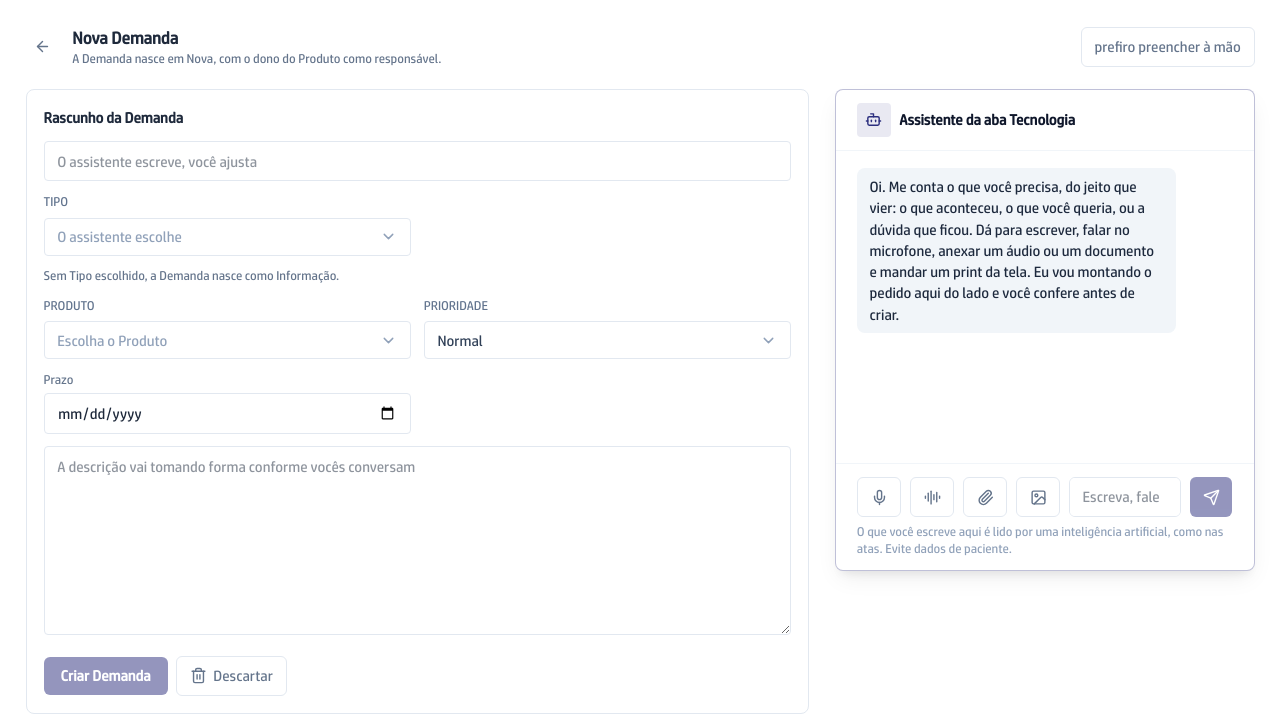
Test: Depois que a Demanda nasce › com aviso de e-mail, a tela NÃO navega sozinha: a frase se perderia
Click the button "prefiro preencher à mão".
click(1168, 47)  # box [1081,27,1254,67]
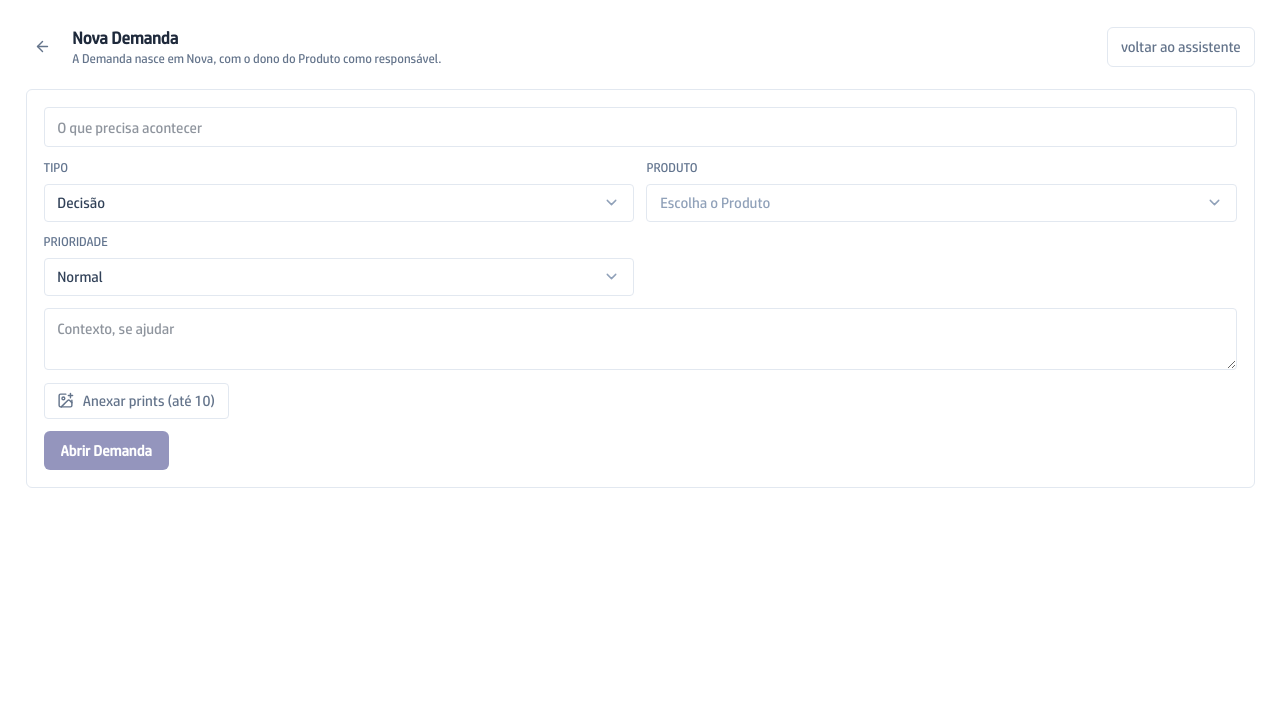
Now the button "Abrir Demanda" is shown, box [44,432,169,470]
Type "Encerrar conversas" into the field named "Título".
click(640, 127); type("Encerrar conversas")  # box [44,107,1236,148]
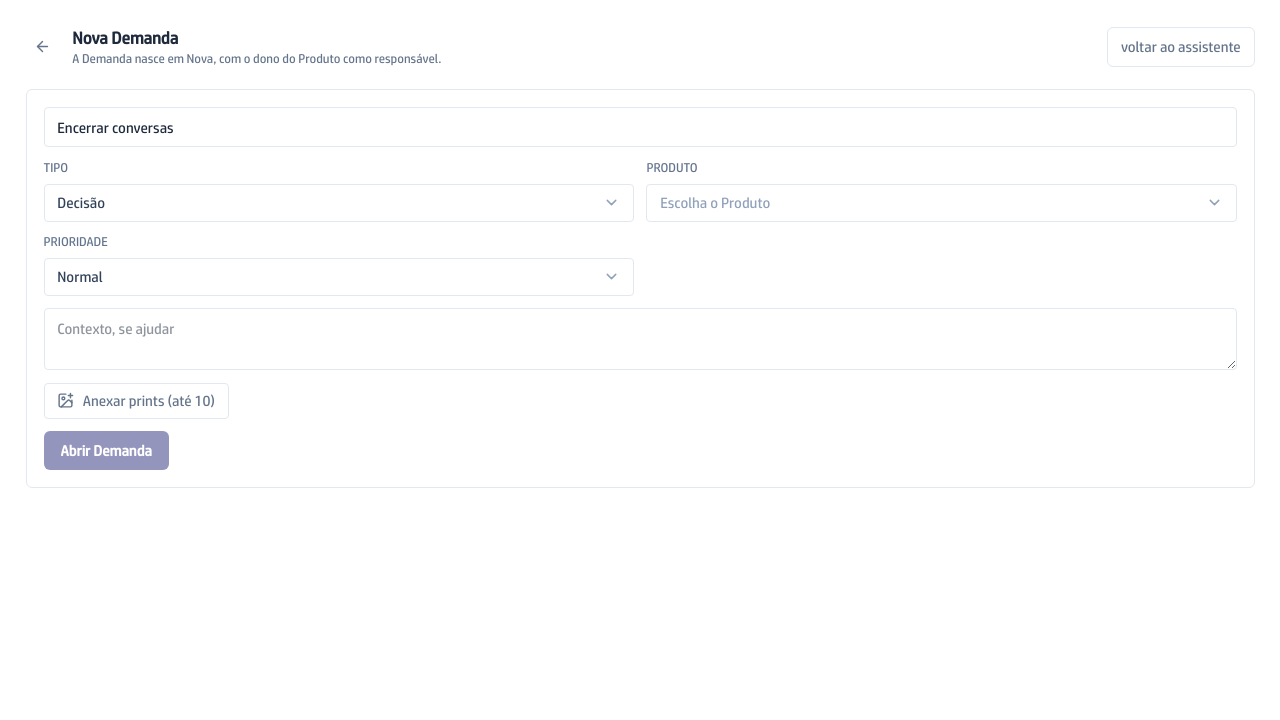
Click the dropdown labelled "Produto".
click(715, 202)  # box [646,184,1236,222]
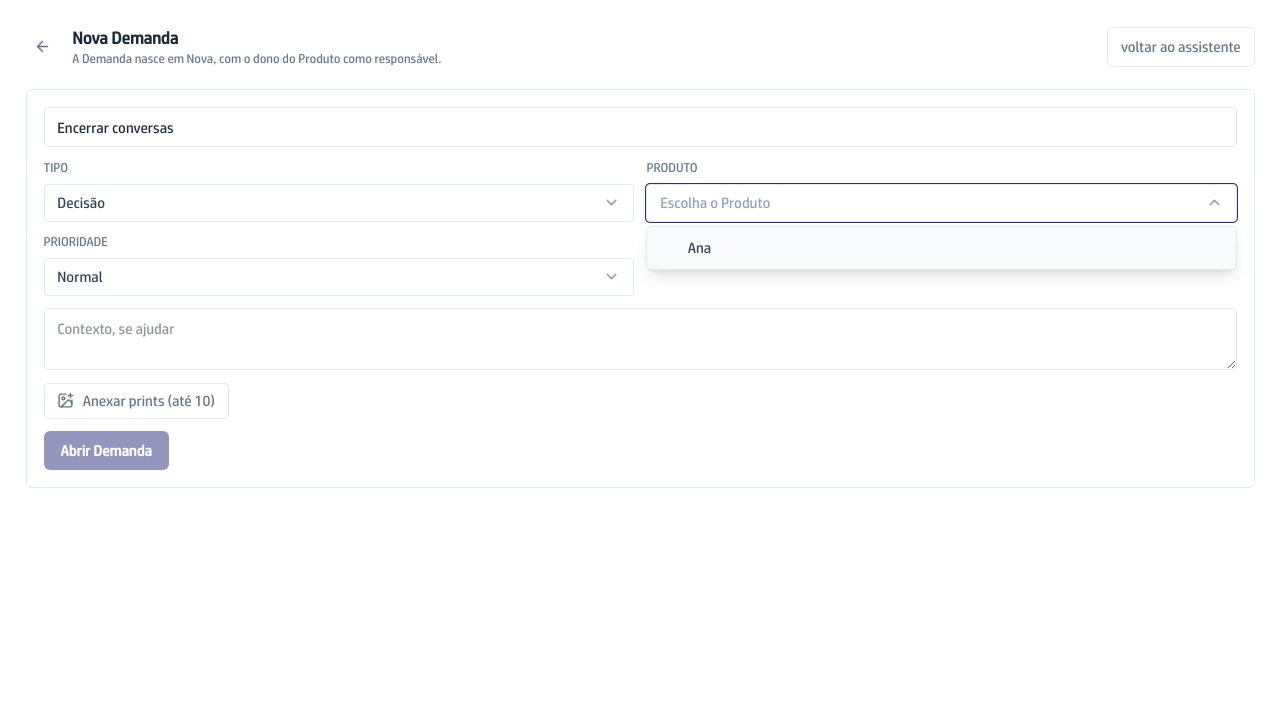
Click the option "Ana".
click(699, 248)  # box [647,227,1236,269]
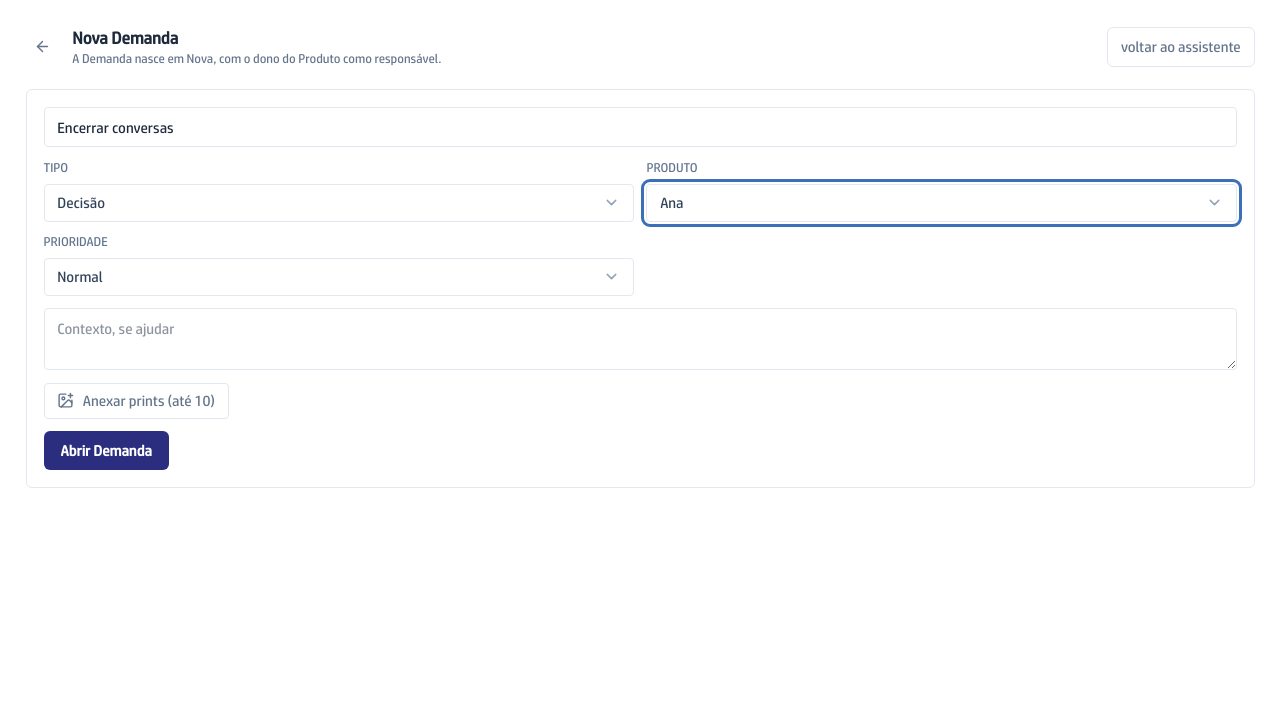
Click the button "Abrir Demanda".
click(106, 451)  # box [44,432,169,470]
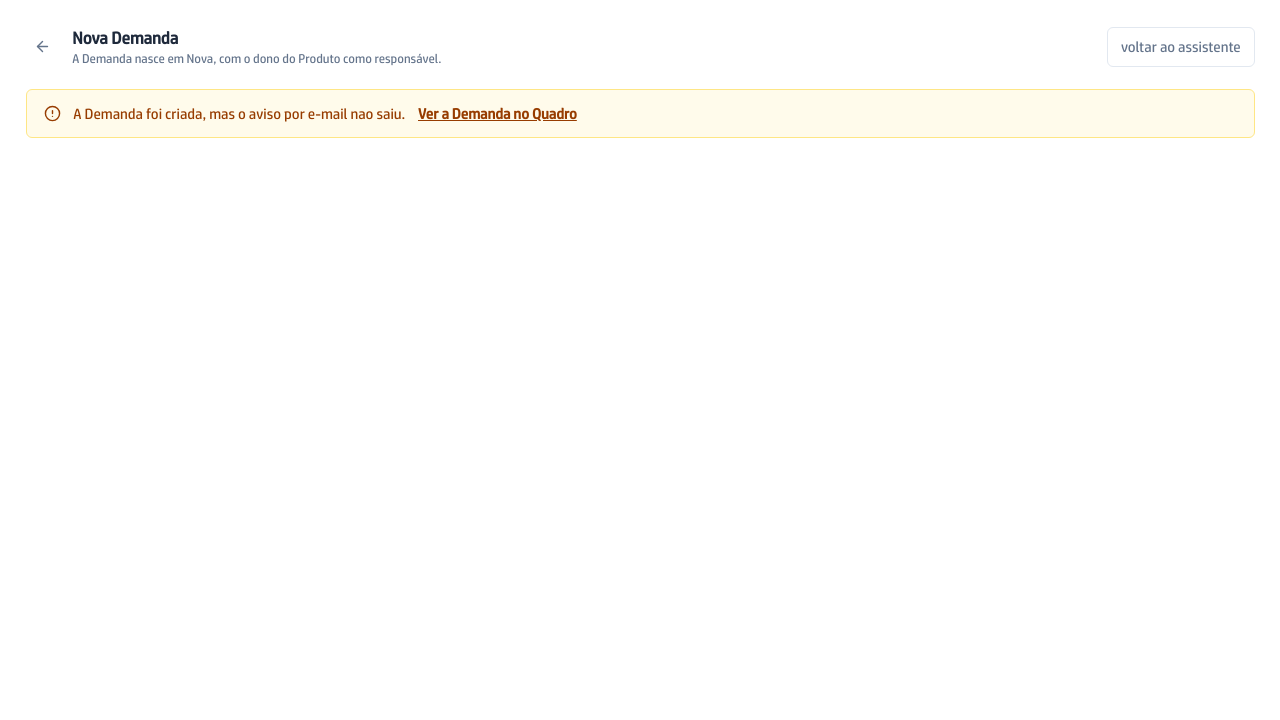
Now the message shows "nao saiu", box [73,105,405,122]
